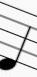D: (1, 3, 32, 72)
